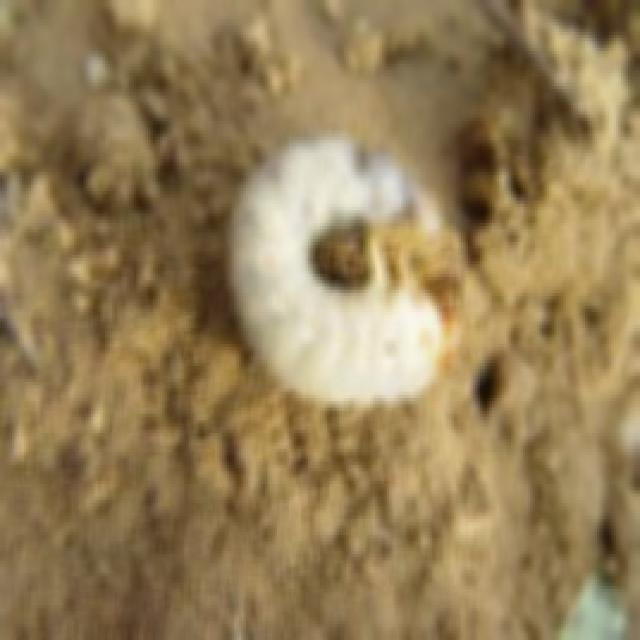grub: (218, 120, 467, 404)
